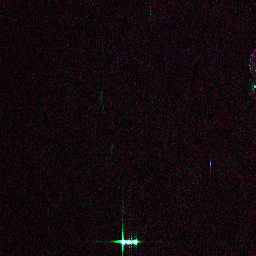ship: (118, 237, 139, 246)
